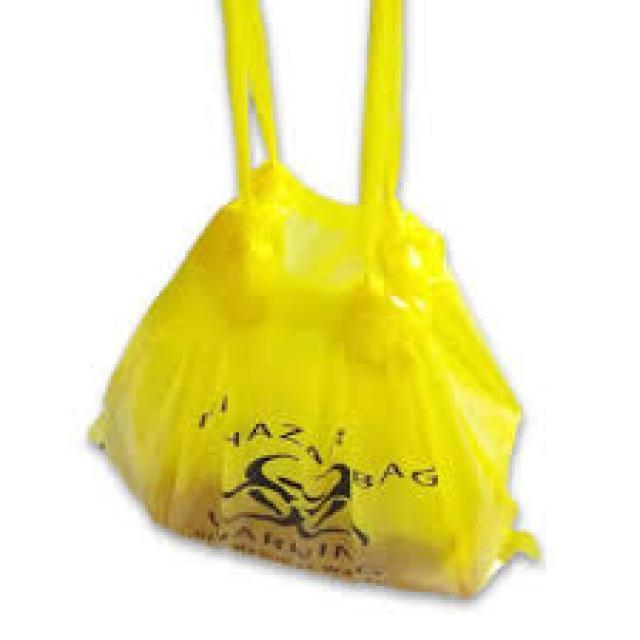waste: (86, 0, 545, 612)
